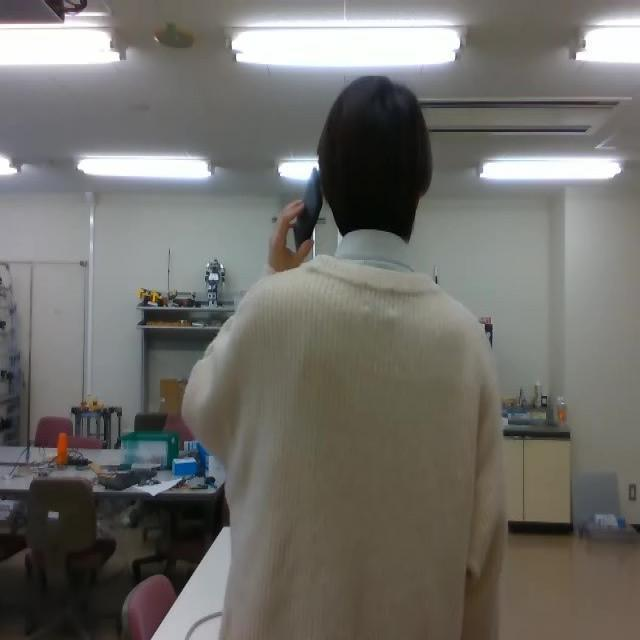Phone: (292, 164, 324, 255)
